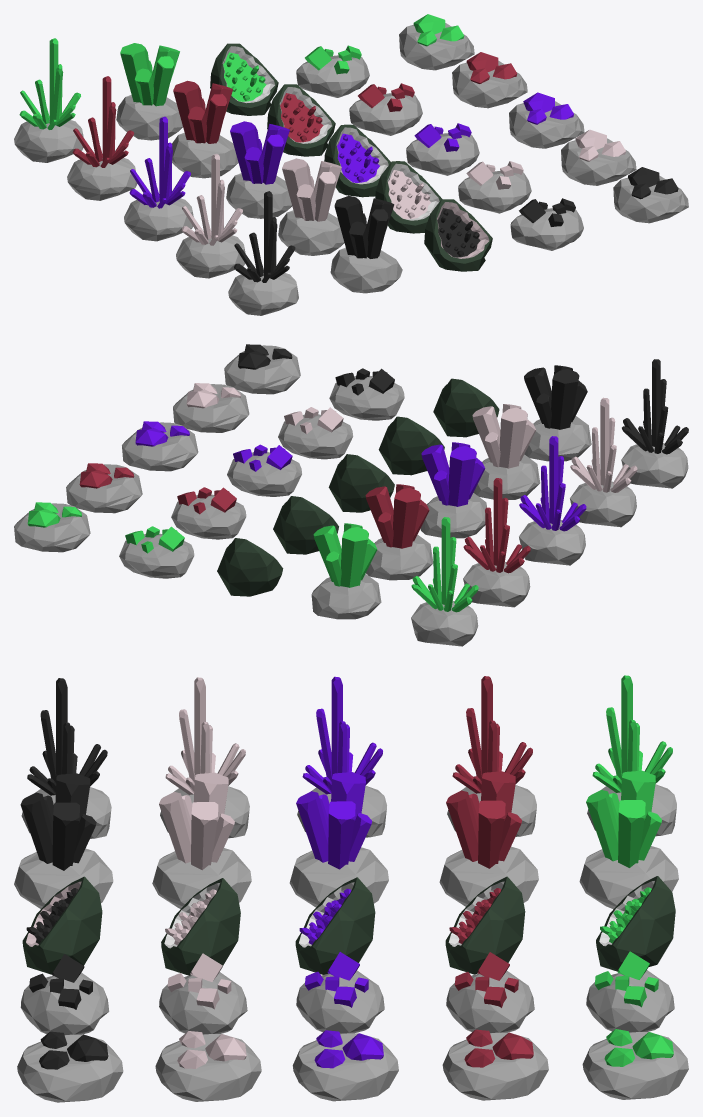
The model's file is new_crystals_Collection.fbx.
3 views of the same model, one above another, from view 1: azimuth 30°, elevation 25°; view 2: azimuth 150°, elevation 25°; view 3: azimuth 270°, elevation 25° (orthographic). The views are drawn at different scales.
Visible parts, largest first — view 1: crystal_basalt_black, crystal_basalt_white, crystal_basalt_red, crystal_basalt_green, crystal_basalt_purple, Crystal_selenite_red, Crystal_selenite_black, Crystal_selenite_green, Crystal_selenite_white, Crystal_selenite_purple, crystal_geode_black, crystal_geode_red (+13 smaller); view 2: crystal_basalt_green, crystal_basalt_red, crystal_basalt_purple, Crystal_selenite_green, Crystal_selenite_purple, crystal_basalt_white, crystal_basalt_black, Crystal_selenite_red, Crystal_selenite_white, Crystal_selenite_black, crystal_amethyst_green, crystal_amethyst_purple (+13 smaller); view 3: crystal_basalt_green, crystal_basalt_white, crystal_basalt_red, crystal_basalt_purple, crystal_basalt_black, crystal_amethyst_black, crystal_amethyst_purple, crystal_amethyst_red, crystal_amethyst_white, crystal_amethyst_green, crystal_geode_black, crystal_geode_red (+13 smaller).
Part boxes in pixels (x1,y1,x2,y2): crystal_basalt_black: [330, 196, 402, 293]; crystal_basalt_white: [278, 158, 344, 255]; crystal_basalt_red: [172, 80, 238, 178]; crystal_basalt_green: [116, 43, 182, 140]; crystal_basalt_purple: [226, 121, 291, 218]; Crystal_selenite_red: [67, 76, 137, 200]; Crystal_selenite_black: [228, 191, 298, 315]; Crystal_selenite_green: [14, 38, 83, 162]; Crystal_selenite_white: [176, 153, 245, 278]; Crystal_selenite_purple: [124, 116, 193, 241]; crystal_geode_black: [424, 199, 492, 271]; crystal_geode_red: [267, 84, 335, 156]; crystal_basalt_green: [311, 523, 381, 619]; crystal_basalt_red: [365, 484, 433, 580]; crystal_basalt_purple: [420, 442, 486, 538]; Crystal_selenite_green: [411, 517, 478, 646]; Crystal_selenite_purple: [519, 436, 586, 565]; crystal_basalt_white: [472, 404, 540, 499]; crystal_basalt_black: [524, 365, 591, 461]; Crystal_selenite_red: [463, 478, 530, 607]; Crystal_selenite_white: [570, 397, 637, 527]; Crystal_selenite_black: [621, 359, 688, 488]; crystal_amethyst_green: [14, 502, 90, 552]; crystal_amethyst_purple: [122, 421, 198, 471]; crystal_basalt_green: [579, 770, 678, 909]; crystal_basalt_white: [152, 772, 251, 908]; crystal_basalt_red: [439, 771, 538, 906]; crystal_basalt_purple: [289, 772, 388, 907]; crystal_basalt_black: [14, 773, 113, 908]; crystal_amethyst_black: [17, 1031, 123, 1102]; crystal_amethyst_purple: [292, 1030, 398, 1101]; crystal_amethyst_red: [442, 1029, 548, 1100]; crystal_amethyst_white: [155, 1031, 261, 1101]; crystal_amethyst_green: [582, 1029, 688, 1099]; crystal_geode_black: [22, 876, 102, 974]; crystal_geode_red: [445, 876, 525, 974].
Bounding box in the file's own units: 1330 × 339 × 1274.
